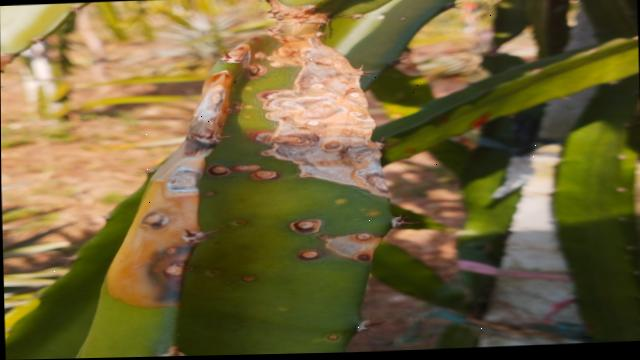stemcanker: (219, 202, 326, 292), (357, 204, 384, 222), (202, 187, 219, 200)
